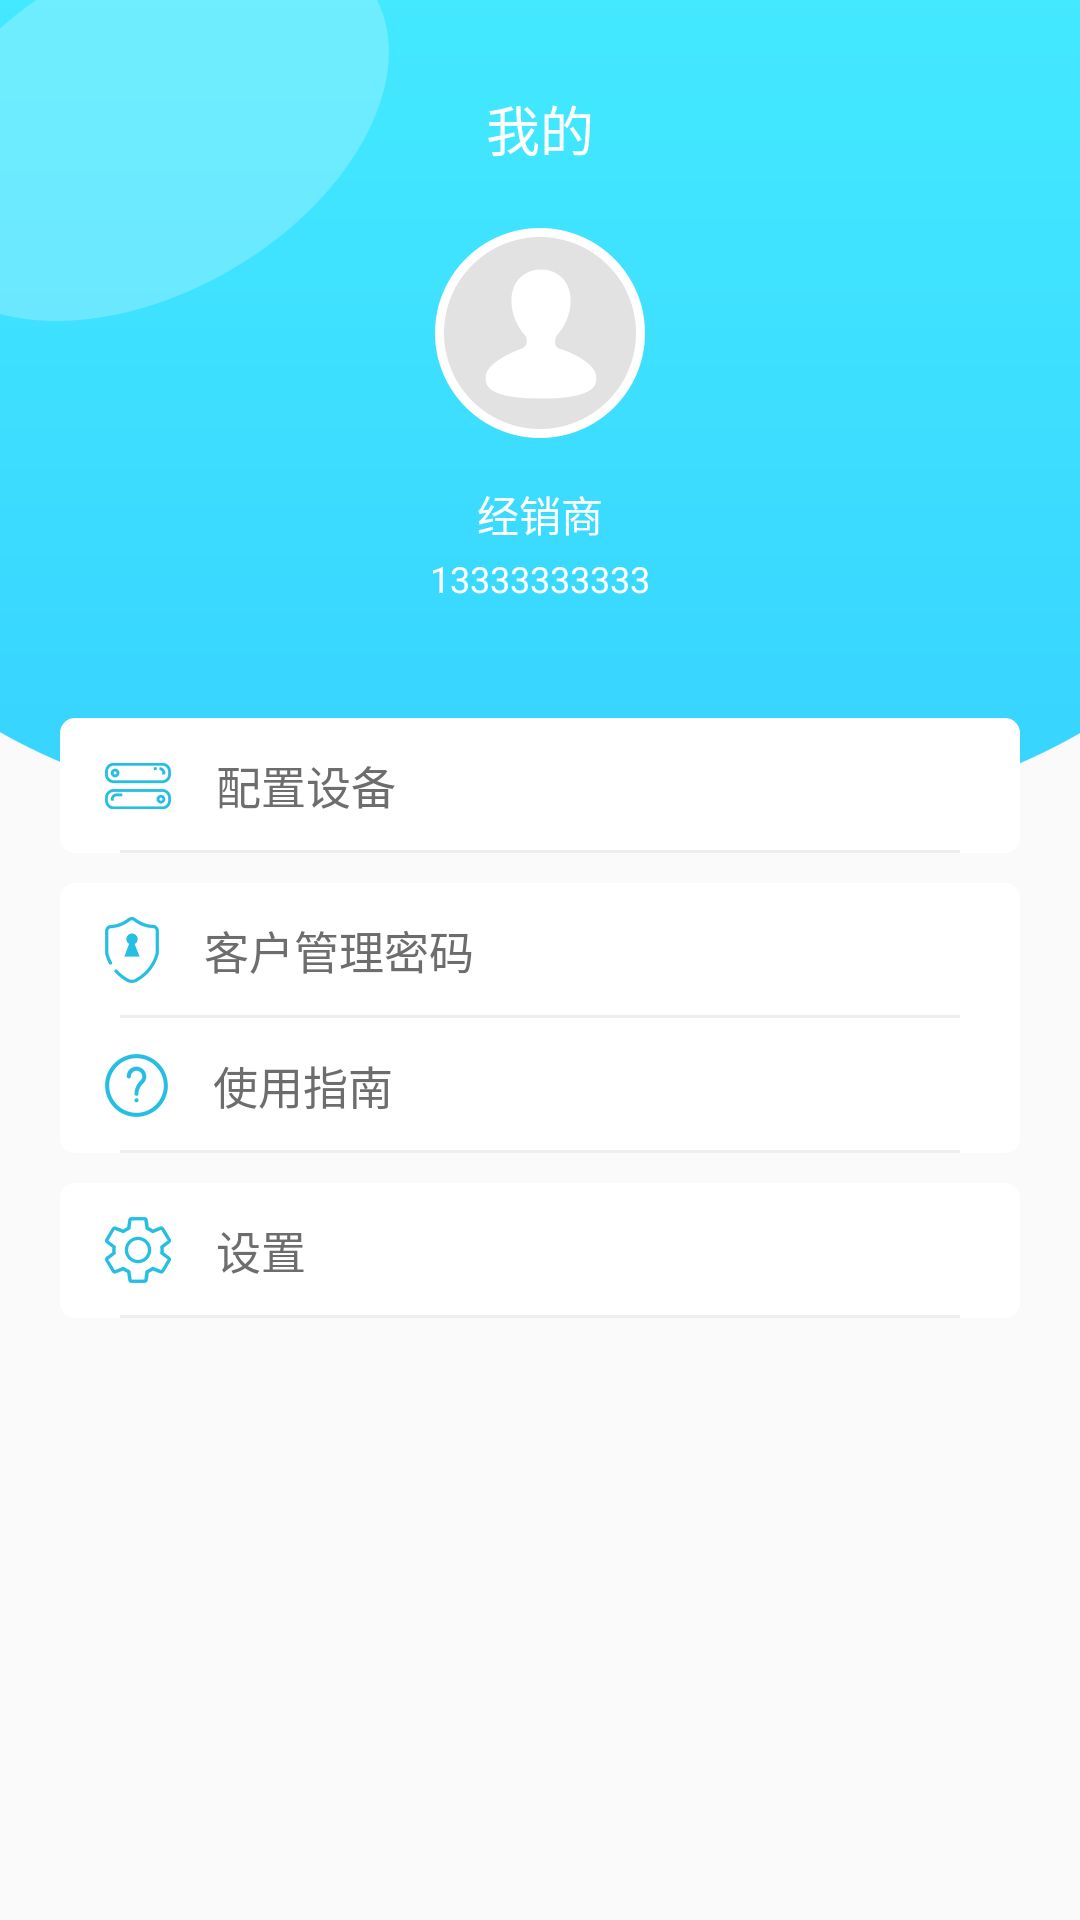

Where to tap for icons on this 1080 × 1920 app screen, as (x=x, y=y):
pass: (x=132, y=950)
yh tx: (x=540, y=333)
